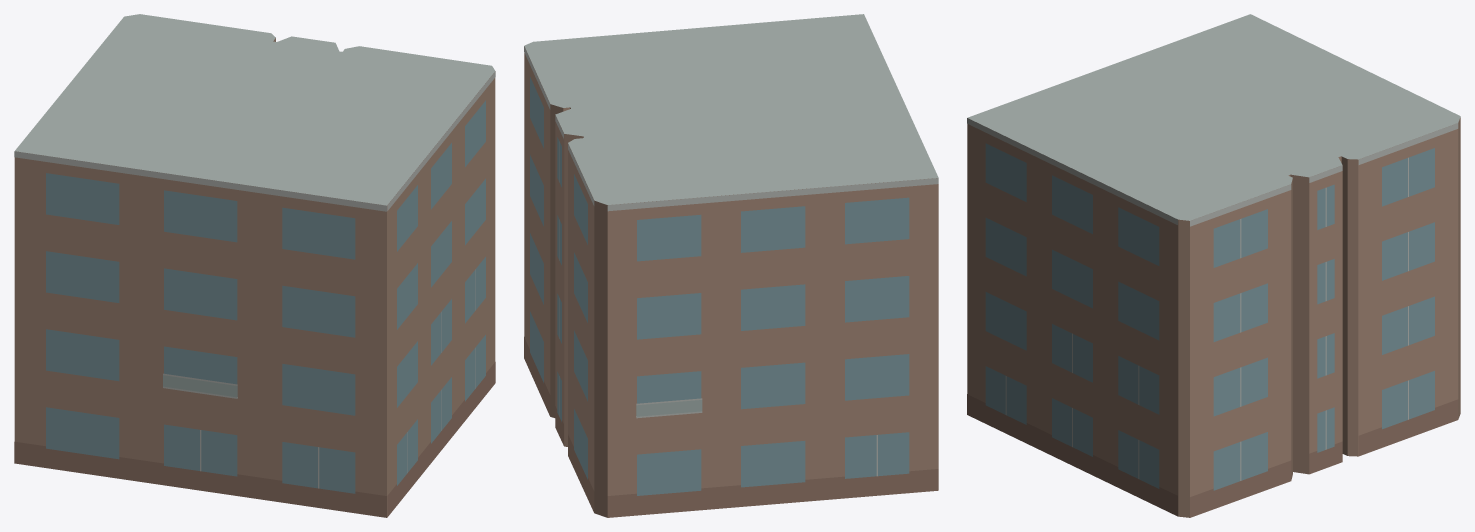
File: survey-upis-32609494.glb
3 renders of one model, left to right at view 1: azimuth 30°, elevation 25°; view 2: azimuth 150°, elevation 25°; view 3: azimuth 270°, elevation 25°, orthographic. The views are drawn at different scales.
Parts seen in each view (by area): view 1: survey-upis-32609494.tmp; view 2: survey-upis-32609494.tmp; view 3: survey-upis-32609494.tmp.
Boxes of the visible parts, x1,y1,x2,y2 form: survey-upis-32609494.tmp: [14, 14, 495, 517]; survey-upis-32609494.tmp: [524, 14, 938, 517]; survey-upis-32609494.tmp: [967, 14, 1460, 517].
Bounding box in the file's own units: 18.53 × 12.4 × 18.69.
